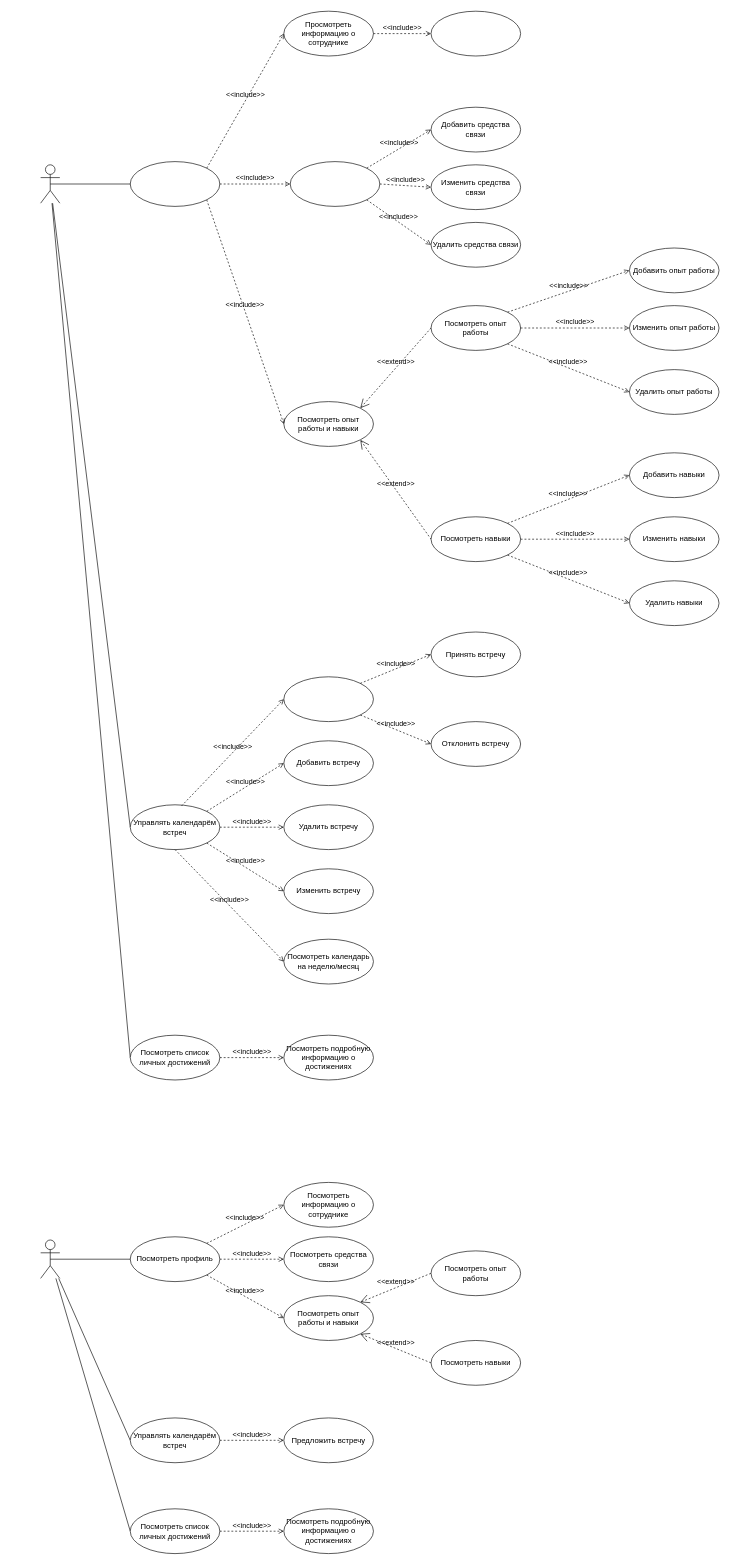
The diagram is 730 pixels wide and 1565 high, and some of its shapes have lost their labels. The centre of each missing label's shape, as x and y in pixels:
"Посмотреть список предложенных встреч" goes at point 328,699.
"Посмотреть средства свзяи" goes at point 335,183.
"Просмотреть профиль" goes at point 175,183.
"Редактировать информацию о сотруднике" goes at point 475,33.
"Сотрудник (свой ЛК)" goes at point 50,183.
"Сотрудник (чужой ЛК)" goes at point 50,1258.
